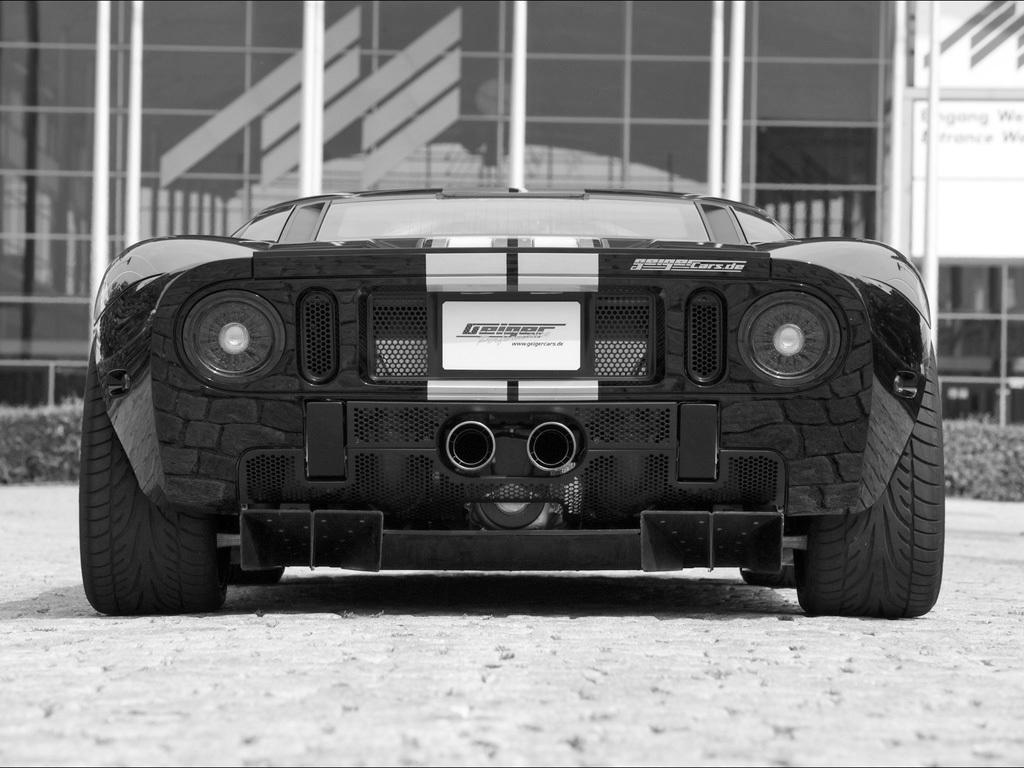car: (80, 191, 948, 623)
